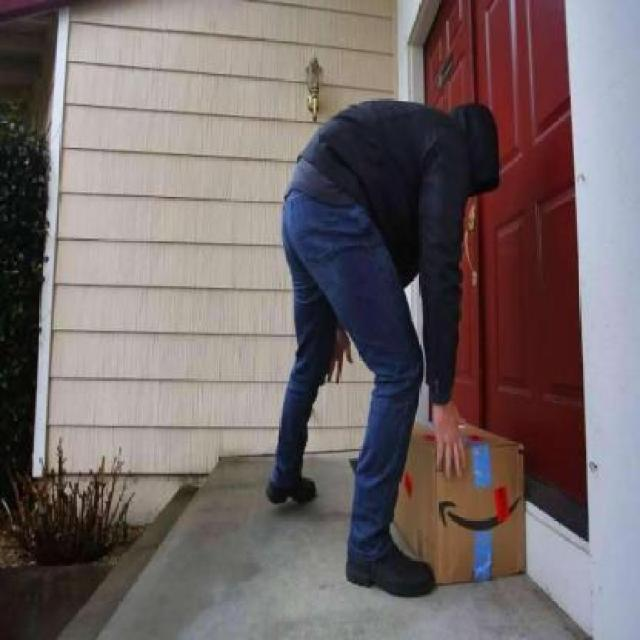cardboxes: (378, 414, 527, 588)
